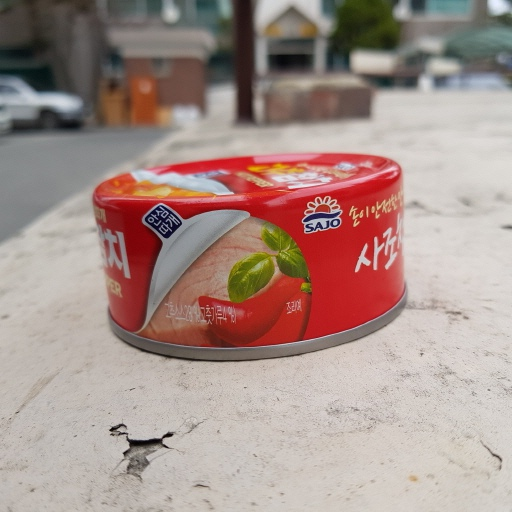Metal_1: (91, 149, 411, 359)
